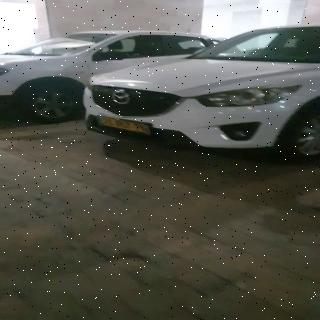LicensePlate: (99, 116, 152, 134)
